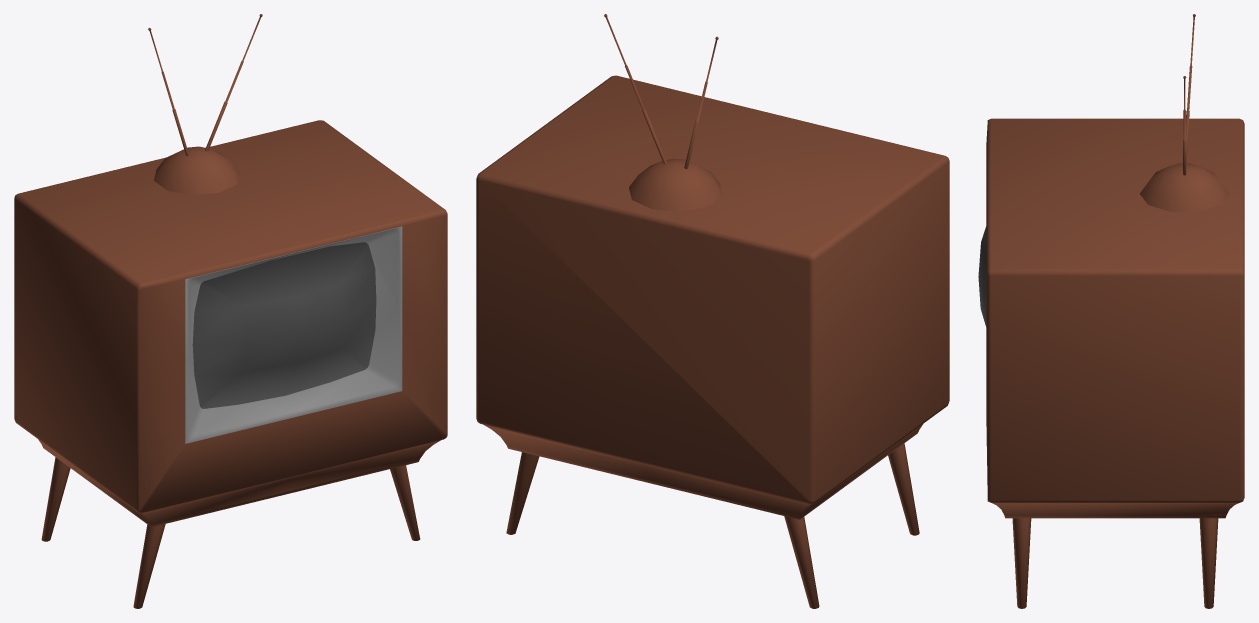
3 renders of one model, left to right at view 1: azimuth 30°, elevation 25°; view 2: azimuth 150°, elevation 25°; view 3: azimuth 270°, elevation 25°, orthographic. The views are drawn at different scales.
Visible parts, largest first — view 1: Cube.001; view 2: Cube.001; view 3: Cube.001.
Boxes of the visible parts, left/top/right/bottom form: Cube.001: left=14, top=14, right=447, bottom=608; Cube.001: left=476, top=14, right=949, bottom=608; Cube.001: left=978, top=14, right=1244, bottom=608.
Bounding box in the file's own units: 283 × 430 × 206.
